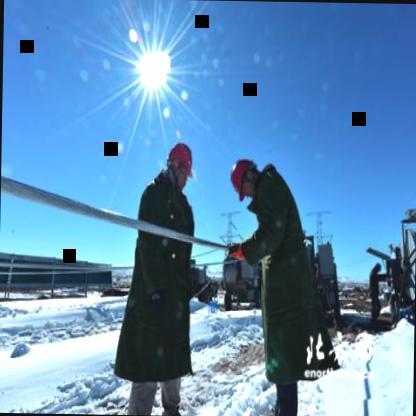helmet: (166, 138, 195, 191), (228, 156, 262, 201)
